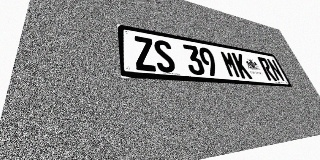3: (182, 44, 206, 75)
9: (197, 46, 220, 77)
K: (231, 52, 253, 79)
M: (219, 50, 241, 78)
N: (266, 58, 286, 82)
R: (257, 57, 277, 81)
S: (152, 39, 177, 73)
Z: (132, 35, 158, 72)
